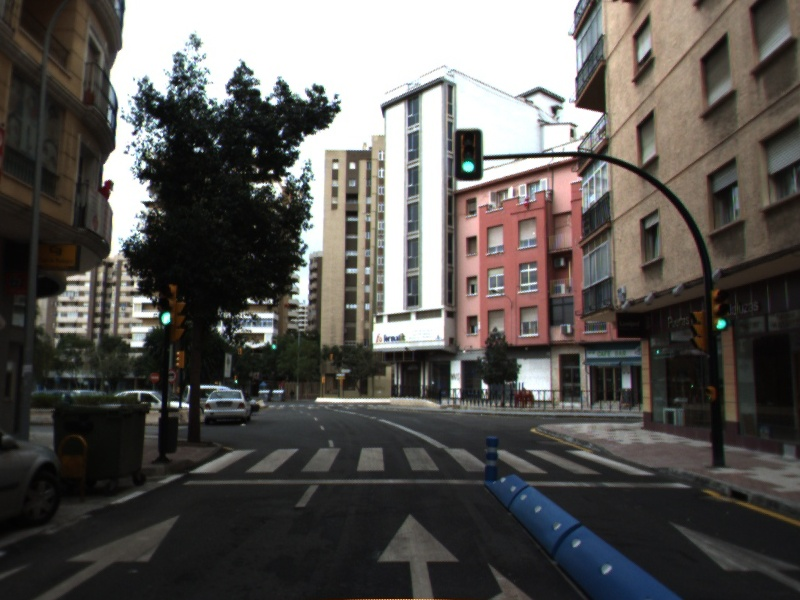STRAIGHT: (27, 510, 186, 600), (661, 514, 800, 592), (372, 509, 465, 600)
